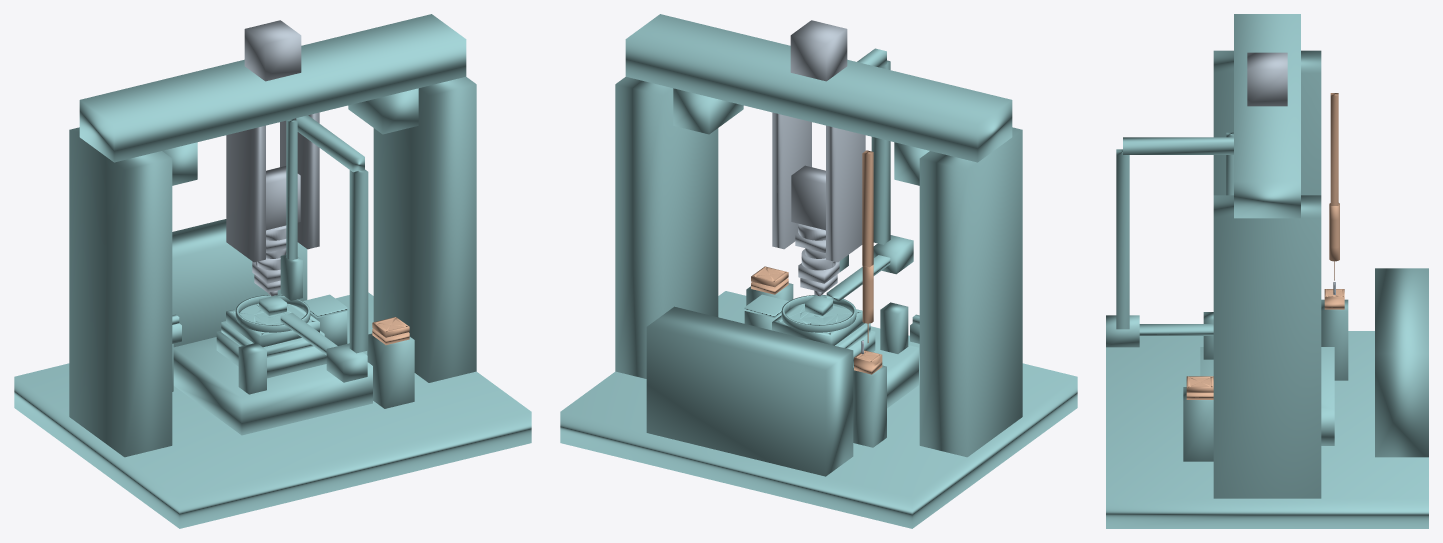
The model's file is hbm_stacker.glb.
The picture shows the model from 3 angles, left to right: view 1: azimuth 30°, elevation 25°; view 2: azimuth 150°, elevation 25°; view 3: azimuth 270°, elevation 25°; orthographic projection. The views are drawn at different scales.
Parts seen in each view (by area): view 1: frame, head, stack_chuck, z_carriage, reflow_chuck, ncf_tray; view 2: frame, head, dispenser, z_carriage, stack_chuck, reflow_chuck, ncf_tray; view 3: frame, head, dispenser, reflow_chuck, mold_jig.
Boxes of the visible parts, x1,y1,x2,y2 form: frame: (14, 14, 531, 528); head: (226, 20, 319, 296); stack_chuck: (226, 303, 319, 347); z_carriage: (266, 166, 300, 230); reflow_chuck: (372, 317, 409, 344); ncf_tray: (303, 294, 347, 317); frame: (560, 14, 1077, 528); head: (772, 20, 865, 296); dispenser: (862, 150, 873, 342); z_carriage: (791, 165, 825, 230); stack_chuck: (772, 303, 864, 345); reflow_chuck: (751, 266, 788, 294); ncf_tray: (744, 294, 788, 317); frame: (1106, 14, 1428, 528); head: (1247, 52, 1287, 106); dispenser: (1329, 93, 1339, 280); reflow_chuck: (1186, 376, 1213, 399); mold_jig: (1324, 289, 1344, 309).
Bounding box in the file's own units: 0.59 × 0.63 × 0.48.
